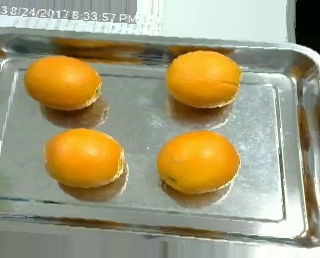Orange: (156, 129, 241, 195), (42, 126, 125, 187), (165, 49, 242, 109), (23, 53, 102, 110)
